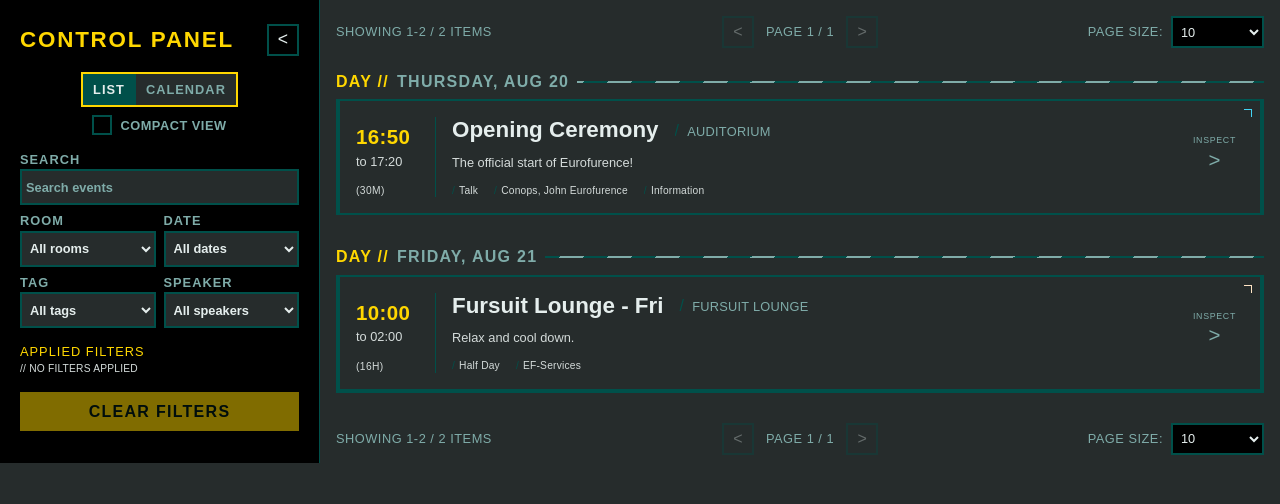
Test case: Pages / SchedulePage › should filter the list when a filter is picked and restore it when cleared
Step 1. Select "Fursuit Lounge" in the dropdown named "Filter by room" → (88, 249), box [20, 231, 156, 267]
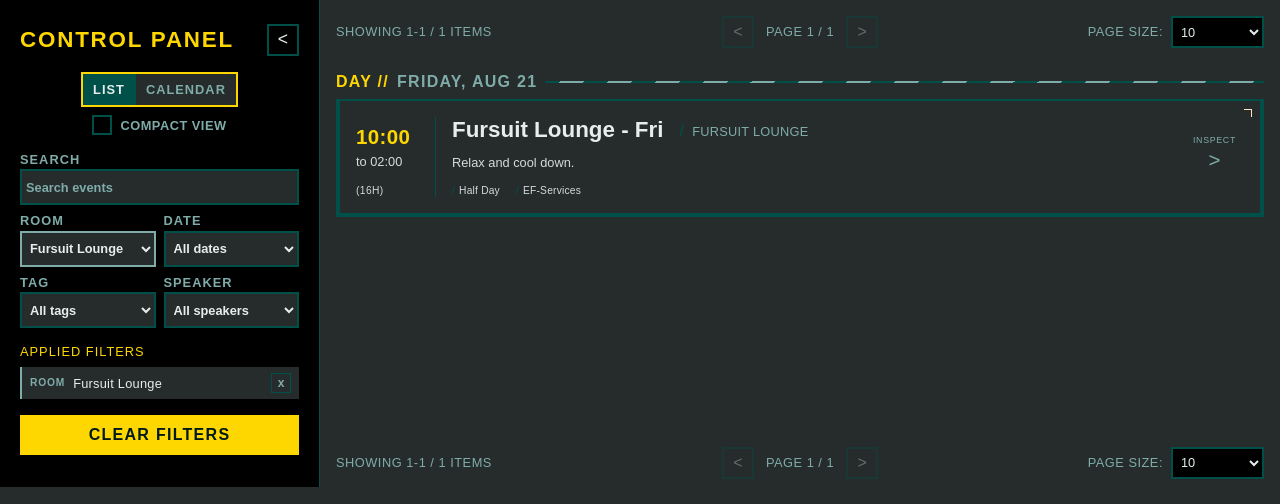
expect the heading "Fursuit Lounge - Fri" is shown: met, box [452, 117, 664, 144]
expect the link "Opening Ceremony" is gone: met
Step 2. Click the button "Clear filters" → (160, 435), box [20, 415, 299, 455]
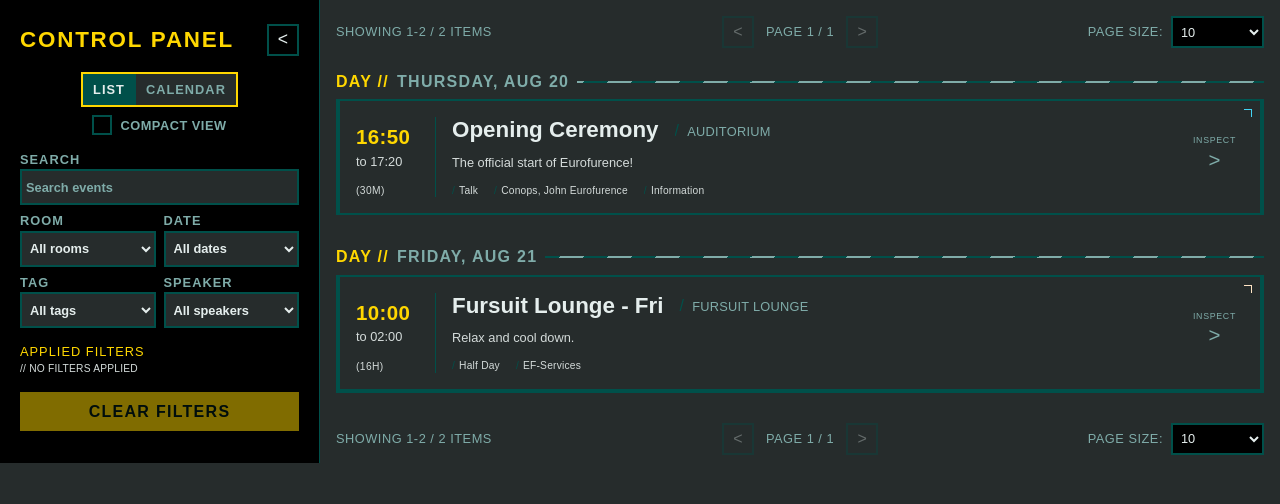
expect the heading "Fursuit Lounge - Fri" is shown: met, box [452, 293, 664, 320]
expect the heading "Opening Ceremony" is shown: met, box [452, 117, 658, 144]
